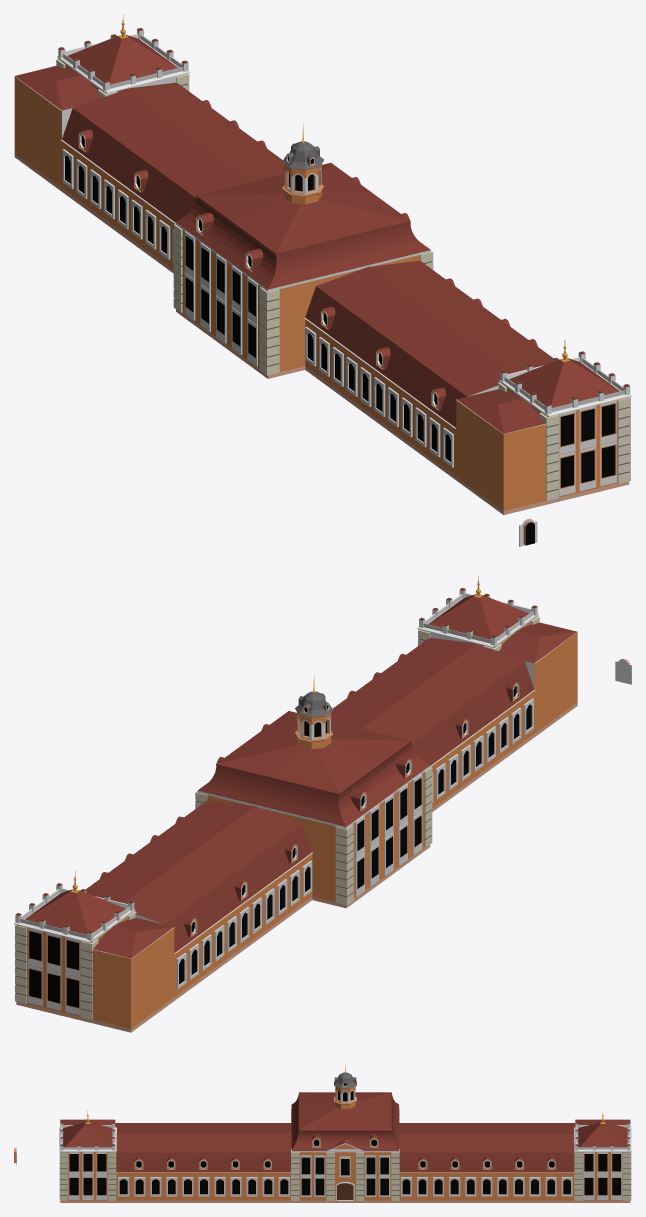
File: cannonyard.gltf
3 views of the same model, one above another, from view 1: azimuth 30°, elevation 25°; view 2: azimuth 150°, elevation 25°; view 3: azimuth 270°, elevation 25° (orthographic). The views are drawn at different scales.
Visible parts, largest first — view 1: Base, Front and back Windows, Back Windiows 1, Side Windows 1.001, Center Columns 1, Side Columns, Top, Cube, Roof Windows.002, Roof Windows.001; view 2: Base, Front and back Windows, Back Windiows 1, Side Windows 1.001, Center Columns 1, Side Columns, Top, Cube, Roof Windows.002; view 3: Base, Front and back Windows, Side Windows 1, Front Windows 2, Side Columns, Roof Windows, Center Columns 1, Center Columns 2, Top, Cube, Front Enter, Front Windows 2.001 (+1 smaller).
Boxes of the visible parts, x1=… form: Base: x1=14, y1=14, x2=631, y2=514; Front and back Windows: x1=62, y1=149, x2=453, y2=467; Back Windiows 1: x1=184, y1=231, x2=257, y2=366; Side Windows 1.001: x1=559, y1=400, x2=616, y2=496; Center Columns 1: x1=173, y1=224, x2=433, y2=375; Side Columns: x1=56, y1=59, x2=630, y2=501; Top: x1=282, y1=123, x2=324, y2=204; Cube: x1=58, y1=28, x2=630, y2=414; Roof Windows.002: x1=78, y1=129, x2=445, y2=410; Roof Windows.001: x1=196, y1=177, x2=409, y2=272; Base: x1=14, y1=576, x2=577, y2=1032; Front and back Windows: x1=176, y1=698, x2=533, y2=989; Back Windiows 1: x1=355, y1=773, x2=422, y2=897; Side Windows 1.001: x1=27, y1=928, x2=80, y2=1015; Center Columns 1: x1=195, y1=767, x2=432, y2=905; Side Columns: x1=15, y1=616, x2=539, y2=1019; Top: x1=295, y1=674, x2=333, y2=748; Cube: x1=15, y1=588, x2=537, y2=940; Roof Windows.002: x1=184, y1=680, x2=519, y2=937; Base: x1=59, y1=1092, x2=631, y2=1202; Front and back Windows: x1=118, y1=1177, x2=572, y2=1196; Side Windows 1: x1=68, y1=1152, x2=622, y2=1199; Front Windows 2: x1=300, y1=1155, x2=390, y2=1196; Side Columns: x1=59, y1=1152, x2=631, y2=1200; Roof Windows: x1=134, y1=1156, x2=555, y2=1169; Center Columns 1: x1=291, y1=1105, x2=399, y2=1200; Center Columns 2: x1=326, y1=1152, x2=364, y2=1200; Top: x1=334, y1=1063, x2=356, y2=1108; Cube: x1=60, y1=1122, x2=630, y2=1150; Front Enter: x1=335, y1=1182, x2=354, y2=1200; Front Windows 2.001: x1=339, y1=1156, x2=350, y2=1177.
Bounding box in the file's own units: 26.41 × 30.88 × 146.
